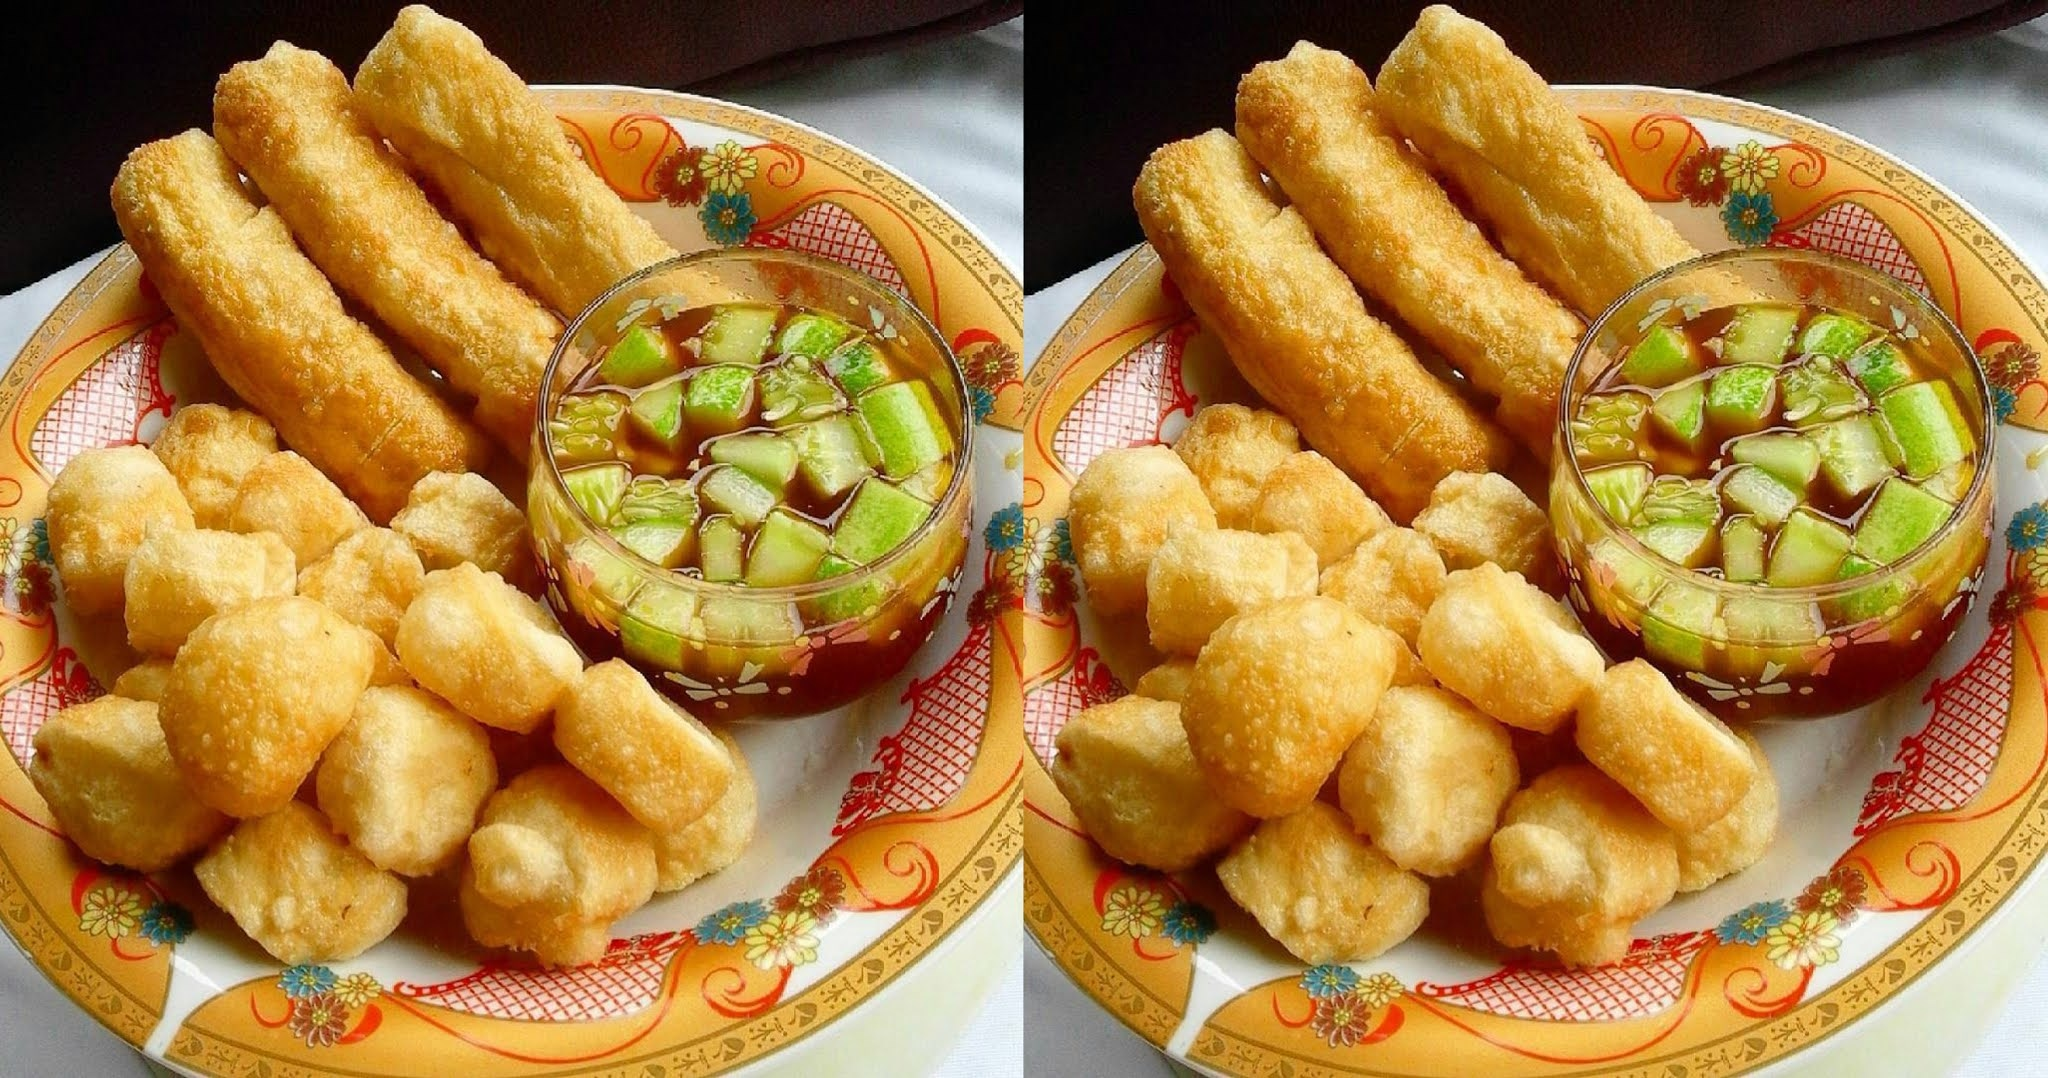pempek: (1054, 3, 2002, 968), (27, 3, 977, 964)
